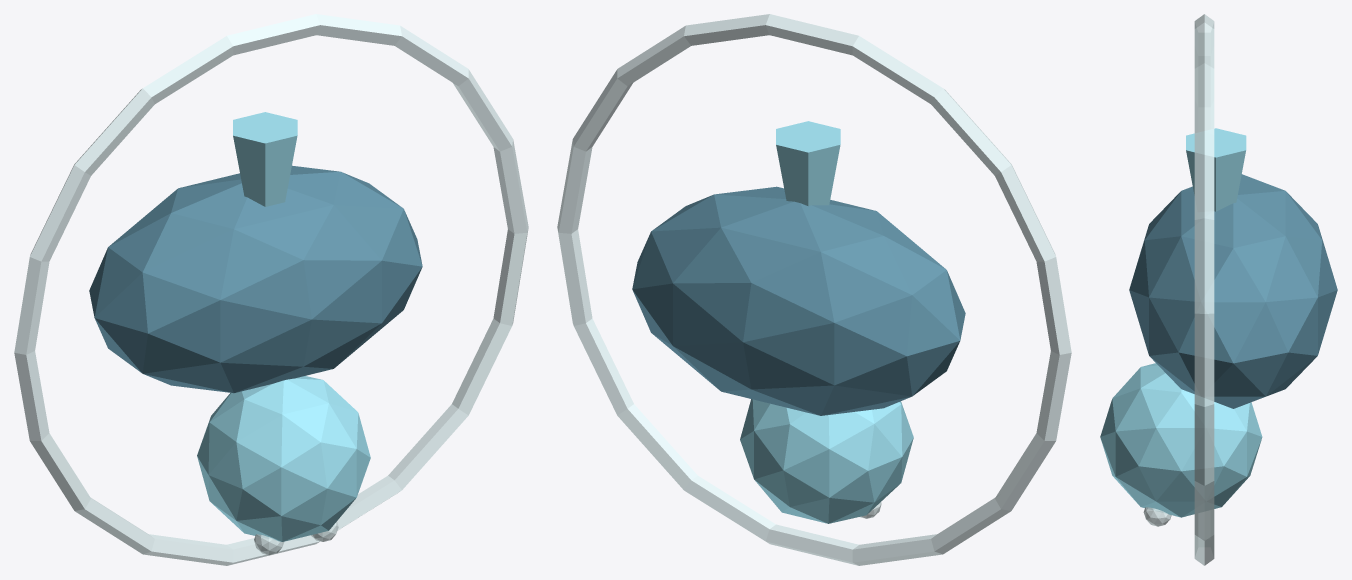
File: 08_pet_companion_proc.glb
3 renders of one model, left to right at view 1: azimuth 30°, elevation 25°; view 2: azimuth 150°, elevation 25°; view 3: azimuth 270°, elevation 25°, orthographic. The views are drawn at different scales.
Visible parts, largest first — view 1: pet_body, bonus_proc_ring, pet_head, tail_or_antenna; view 2: pet_body, bonus_proc_ring, pet_head, tail_or_antenna; view 3: pet_body, pet_head, bonus_proc_ring, tail_or_antenna, pet_eye_r.
Part boxes in pixels (x1,y1,x2,y2): pet_body: (89, 165, 422, 393); bonus_proc_ring: (14, 14, 528, 565); pet_head: (197, 376, 370, 541); tail_or_antenna: (233, 112, 297, 206); pet_body: (632, 186, 965, 415); bonus_proc_ring: (557, 14, 1071, 565); pet_head: (740, 399, 913, 523); tail_or_antenna: (776, 121, 840, 206); pet_body: (1129, 174, 1337, 408); pet_head: (1100, 363, 1262, 517); bonus_proc_ring: (1194, 14, 1214, 565); tail_or_antenna: (1186, 128, 1246, 211); pet_eye_r: (1143, 507, 1171, 526).
Bounding box in the file's own units: 0.956 × 0.9415 × 0.41.
